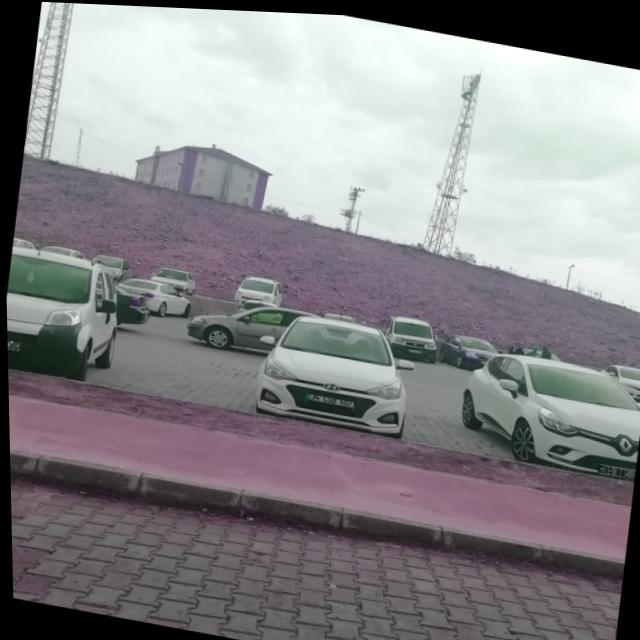license_plate: (305, 392, 352, 410), (596, 459, 634, 473), (6, 339, 19, 353)
